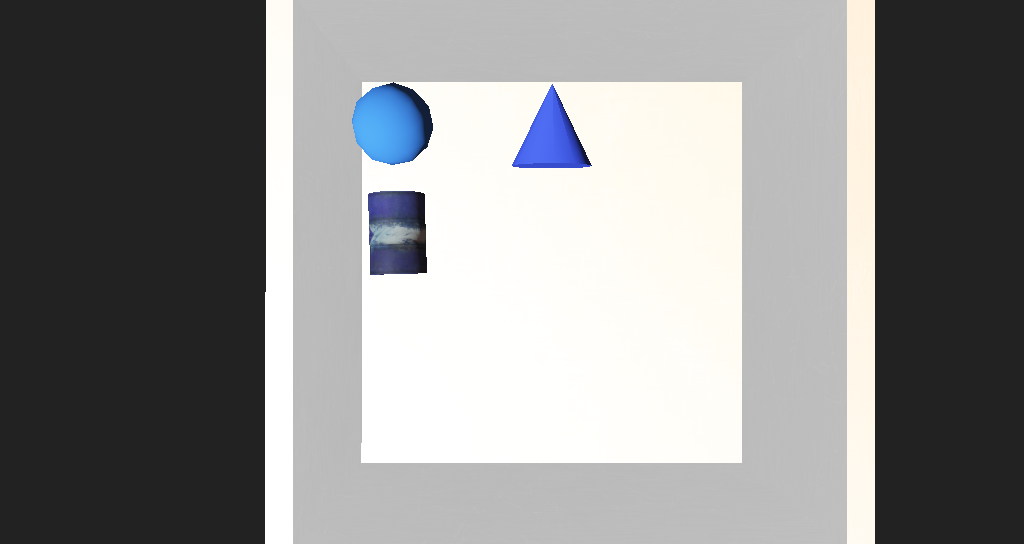cone: (357, 227, 411, 270)
cylinder: (475, 157, 536, 215)
sphere: (344, 162, 411, 210)
